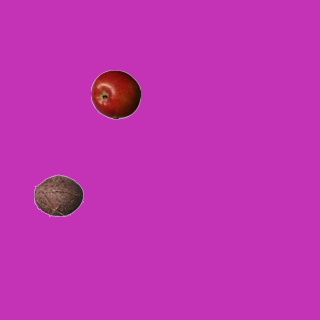Apple Braeburn: (90, 69, 140, 119)
Cocos: (33, 170, 83, 220)
